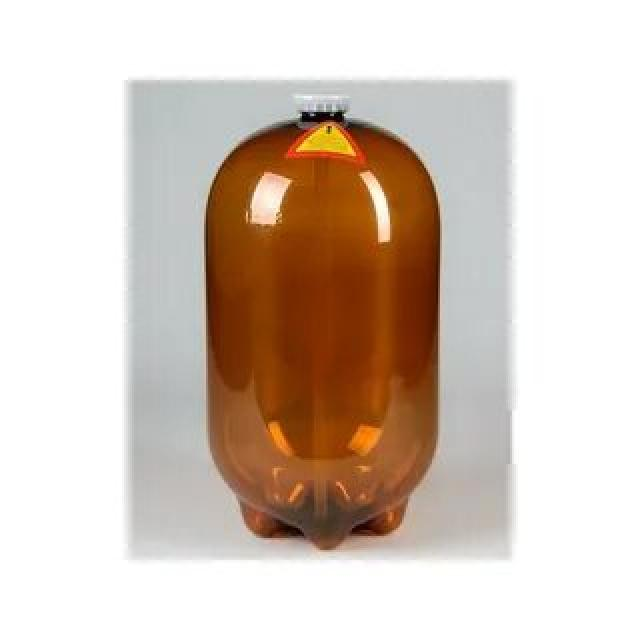brown: (203, 114, 440, 554)
